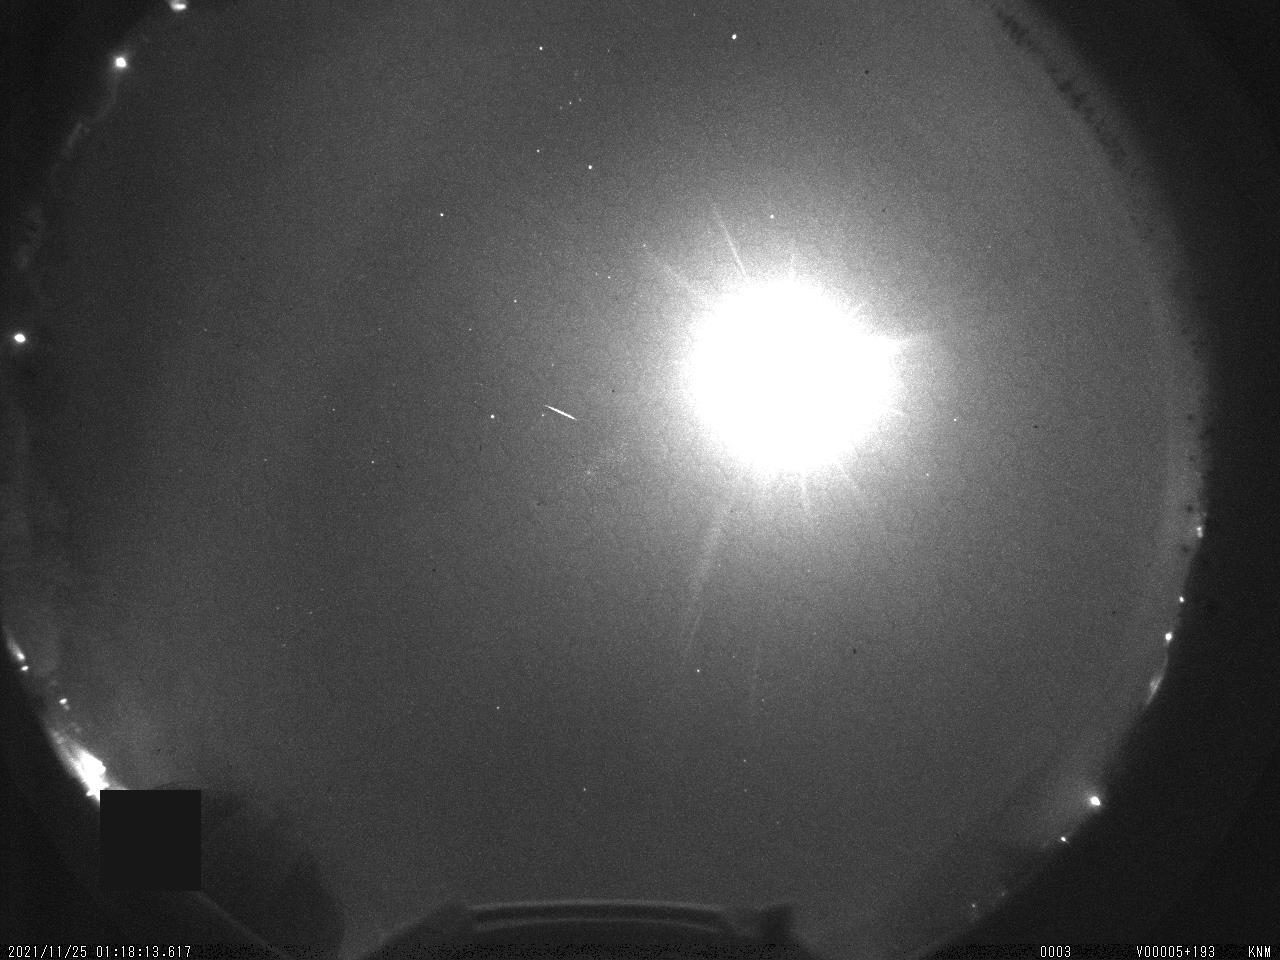meteor: (533, 398, 588, 432)
